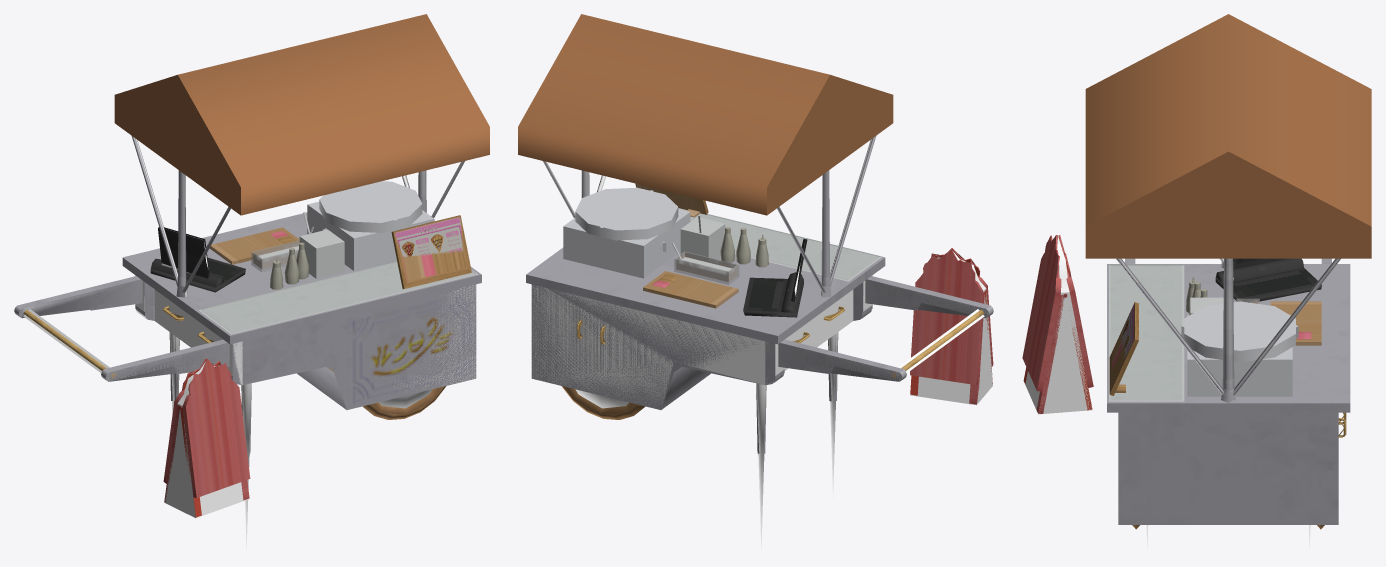
The model's file is objects_un_crepe_cart01.gltf.
The picture shows the model from 3 angles, left to right: view 1: azimuth 30°, elevation 25°; view 2: azimuth 150°, elevation 25°; view 3: azimuth 270°, elevation 25°; orthographic projection. The views are drawn at different scales.
Visible parts, largest first — view 1: um_objects_un_crepe_cart01_model_lod0Shape:objects_un_crepe_ (×11), um_objects_un_crepe_cart01_model_lod2Shape:objects_un_crepe_ (×4), um_objects_un_crepe_cart01_model_lod1Shape:objects_un_crepe_ (×3); view 2: um_objects_un_crepe_cart01_model_lod0Shape:objects_un_crepe_ (×11), um_objects_un_crepe_cart01_model_lod2Shape:objects_un_crepe_ (×3), um_objects_un_crepe_cart01_model_lod1Shape:objects_un_crepe_ (×3); view 3: um_objects_un_crepe_cart01_model_lod0Shape:objects_un_crepe_ (×9), um_objects_un_crepe_cart01_model_lod2Shape:objects_un_crepe_ (×3), um_objects_un_crepe_cart01_model_lod1Shape:objects_un_crepe_ (×3).
Boxes of the visible parts, x1,y1,x2,y2 form: um_objects_un_crepe_cart01_model_lod0Shape:objects_un_crepe_ (×11): (14,14,489,549); um_objects_un_crepe_cart01_model_lod2Shape:objects_un_crepe_ (×4): (22,185,475,516); um_objects_un_crepe_cart01_model_lod1Shape:objects_un_crepe_ (×3): (163,170,471,497); um_objects_un_crepe_cart01_model_lod0Shape:objects_un_crepe_ (×11): (518,14,993,549); um_objects_un_crepe_cart01_model_lod2Shape:objects_un_crepe_ (×3): (531,190,986,409); um_objects_un_crepe_cart01_model_lod1Shape:objects_un_crepe_ (×3): (545,170,862,401); um_objects_un_crepe_cart01_model_lod0Shape:objects_un_crepe_ (×9): (1022,14,1371,549); um_objects_un_crepe_cart01_model_lod2Shape:objects_un_crepe_ (×3): (1022,236,1298,412); um_objects_un_crepe_cart01_model_lod1Shape:objects_un_crepe_ (×3): (1039,236,1311,413).
Size of the model in its own units: 2.9 by 3.47 by 2.11.
12 materials, 11 textured.
